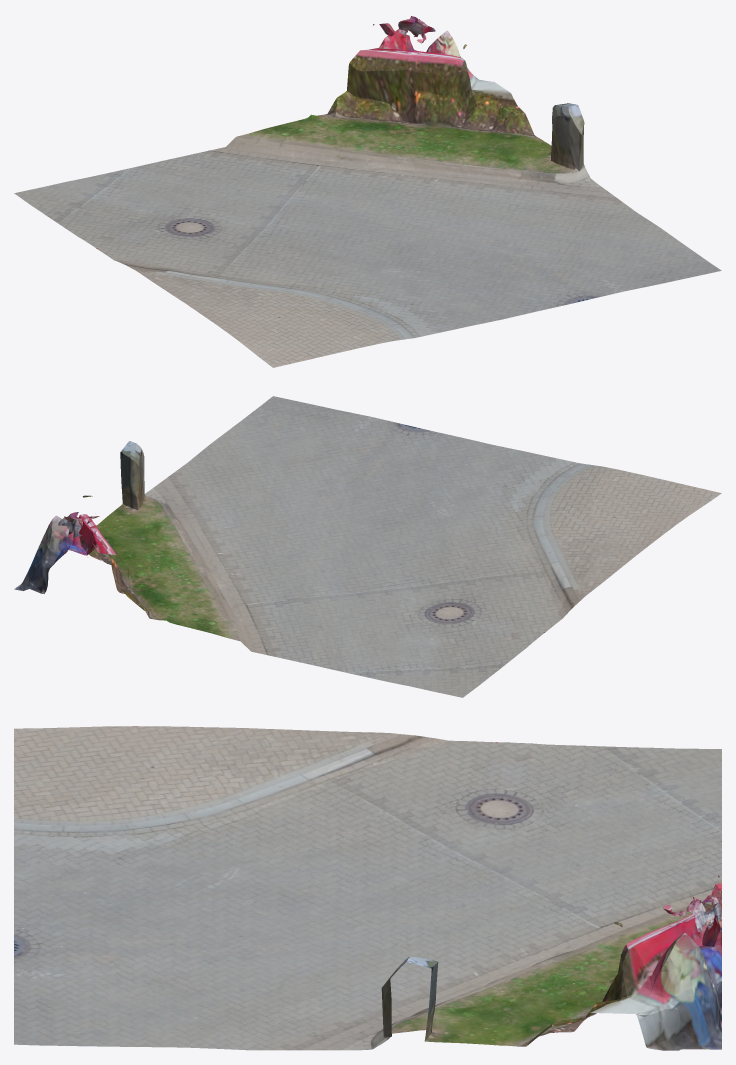
The picture shows the model from 3 angles, top to bottom: view 1: azimuth 30°, elevation 25°; view 2: azimuth 150°, elevation 25°; view 3: azimuth 270°, elevation 25°; orthographic projection. The views are drawn at different scales.
Bounding box in the file's own units: 8.36 × 1.57 × 8.36.
Materials: 3 (3 with a texture image).
